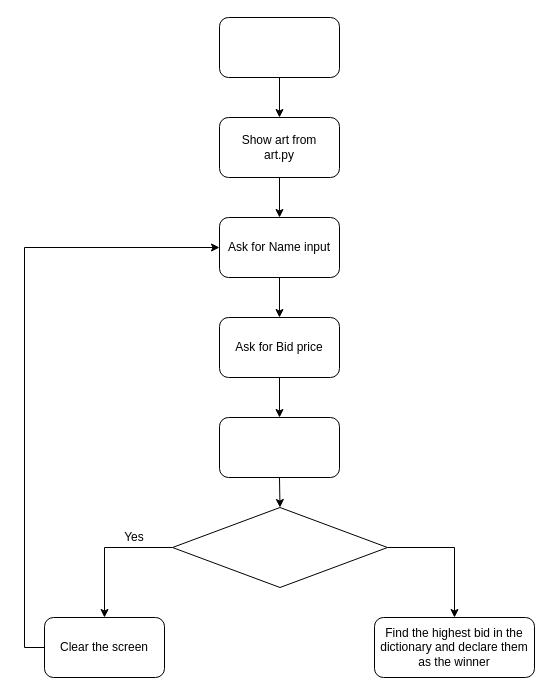
This 552x695 diagram has some shape labels left out. The shapes that lost their labels are listed below. From the top down, each one's box as (x1, y1, x2, y2) in pixels, then its label:
(218, 16, 340, 78): START
(218, 416, 340, 478): Add Name and Bid into dictionary as key and value
(172, 506, 388, 588): Ask if there are other users who want to bid
